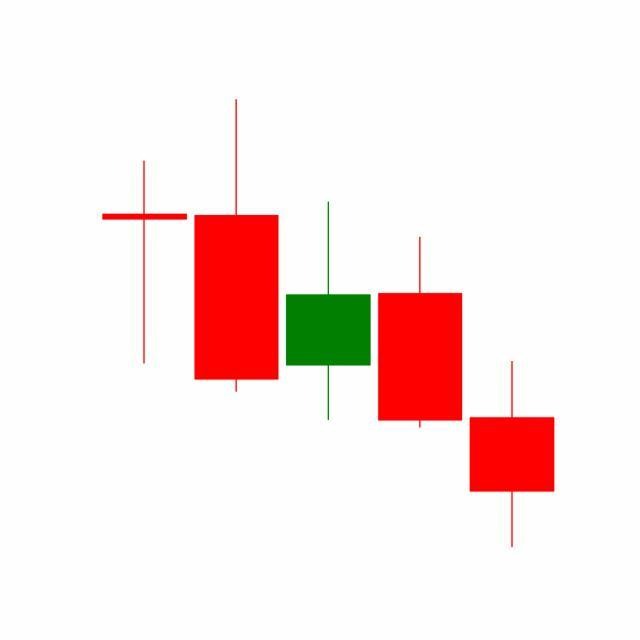Three Outside Up-Down: (280, 198, 555, 549)
